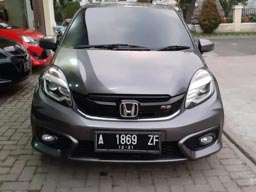plat: (95, 132, 158, 144)
